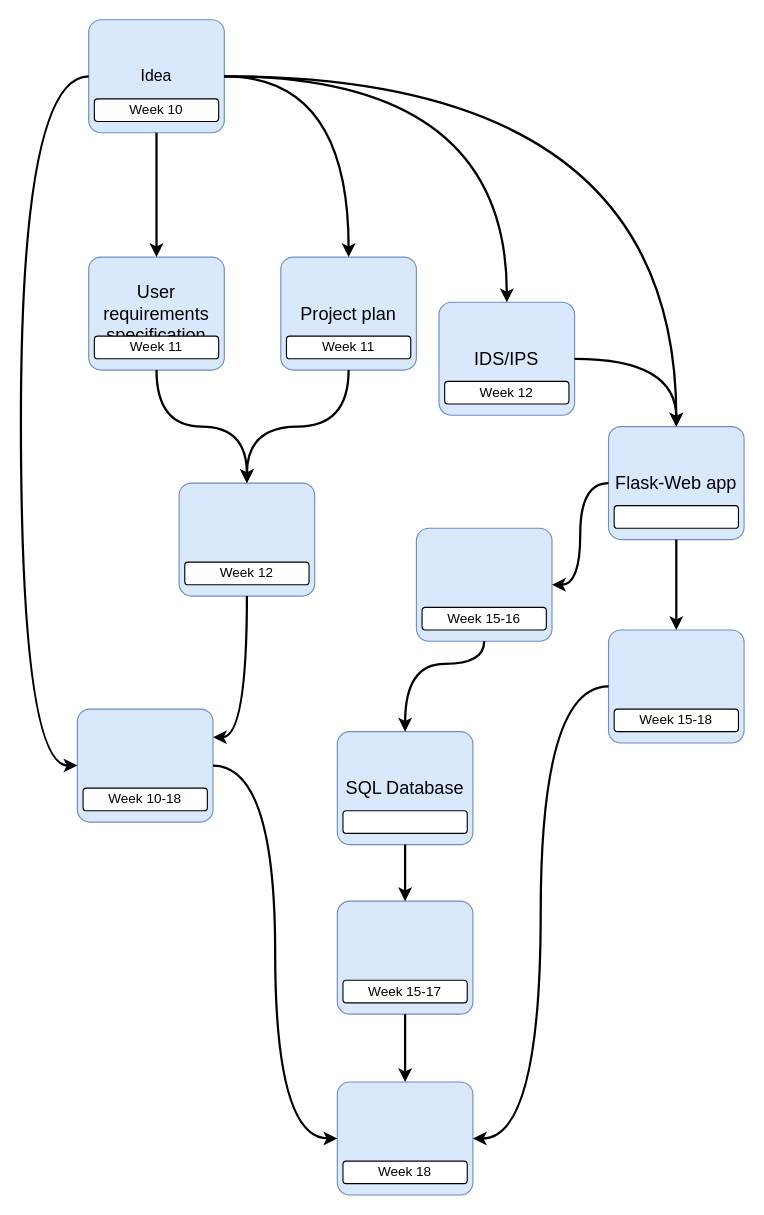
The diagram is 764 pixels wide and 1215 high, and some of its shapes have lost their labels. Here are the shapes that lost their labels. From the top down, the box of each, then its label:
(613, 505, 738, 528): Week 13-17
(178, 482, 315, 596): Design Document
(415, 527, 552, 641): Raspberry Pi Sensors
(607, 629, 744, 743): Tkinter app
(76, 708, 213, 822): Process report
(342, 810, 467, 833): Week 14-16
(336, 900, 473, 1014): Encryption of the data
(336, 1081, 473, 1195): Presentation
